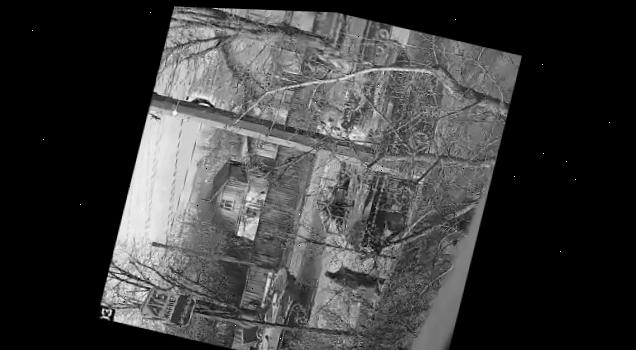person: (320, 260, 389, 299)
tank: (312, 33, 451, 262), (235, 258, 321, 350), (318, 12, 392, 79)
